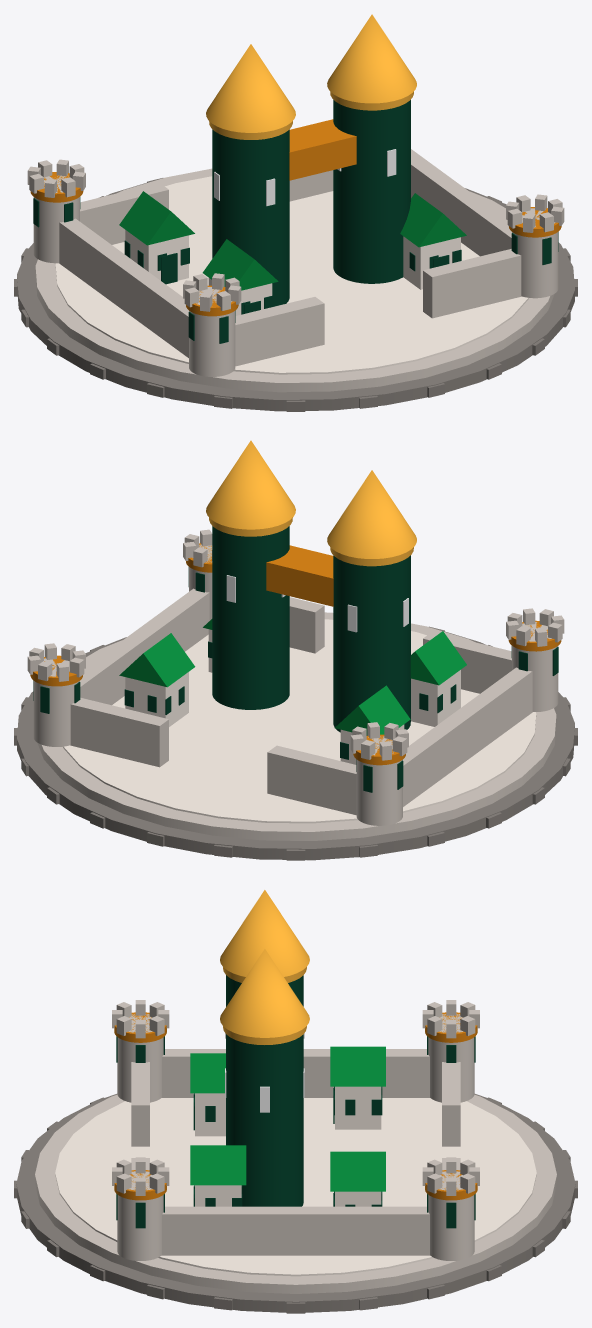
Rendered from city_identity.glb.
3 renders of one model, top to bottom at view 1: azimuth 30°, elevation 25°; view 2: azimuth 150°, elevation 25°; view 3: azimuth 270°, elevation 25°, orthographic.
Visible parts, largest first — view 1: city-floor_grey, identity-gate-tower_white, curtain-wall_white, lower-plinth_stone, upper-plinth_white, corner-tower_white, gate-wall_white, identity-gate-tower_green, courtyard-building_green, courtyard-building_white, gate-lintel_white, plinth-tooth_stone (+5 smaller); view 2: city-floor_grey, identity-gate-tower_white, curtain-wall_white, corner-tower_white, lower-plinth_stone, upper-plinth_white, identity-gate-tower_green, courtyard-building_green, gate-wall_white, courtyard-building_white, gate-lintel_white, plinth-tooth_stone (+5 smaller); view 3: city-floor_grey, curtain-wall_white, corner-tower_white, upper-plinth_white, lower-plinth_stone, identity-gate-tower_white, identity-gate-tower_green, courtyard-building_green, courtyard-building_white, plinth-tooth_stone, corner-tower_stone, gate-wall_white (+3 smaller).
Boxes of the visible parts, left/top/right/bottom form: city-floor_grey: left=55, top=176, right=528, bottom=374; identity-gate-tower_white: left=212, top=100, right=410, bottom=306; curtain-wall_white: left=59, top=149, right=511, bottom=357; lower-plinth_stone: left=17, top=179, right=574, bottom=411; upper-plinth_white: left=35, top=168, right=554, bottom=392; corner-tower_white: left=27, top=159, right=564, bottom=376; gate-wall_white: left=235, top=249, right=521, bottom=366; identity-gate-tower_green: left=206, top=14, right=416, bottom=132; courtyard-building_green: left=119, top=191, right=466, bottom=290; courtyard-building_white: left=125, top=230, right=460, bottom=315; gate-lintel_white: left=289, top=119, right=356, bottom=180; plinth-tooth_stone: left=14, top=178, right=577, bottom=411; city-floor_grey: left=63, top=619, right=536, bottom=823; identity-gate-tower_white: left=212, top=526, right=410, bottom=732; curtain-wall_white: left=70, top=588, right=532, bottom=815; corner-tower_white: left=27, top=529, right=564, bottom=825; lower-plinth_stone: left=17, top=628, right=574, bottom=860; upper-plinth_white: left=37, top=612, right=556, bottom=840; identity-gate-tower_green: left=206, top=440, right=416, bottom=558; courtyard-building_green: left=119, top=619, right=466, bottom=735; gate-wall_white: left=289, top=597, right=511, bottom=693; courtyard-building_white: left=125, top=629, right=460, bottom=764; gate-lintel_white: left=266, top=545, right=333, bottom=606; plinth-tooth_stone: left=14, top=626, right=577, bottom=860; city-floor_grey: left=55, top=1098, right=536, bottom=1276; curtain-wall_white: left=162, top=1049, right=460, bottom=1255; corner-tower_white: left=112, top=1000, right=479, bottom=1260; upper-plinth_white: left=35, top=1094, right=556, bottom=1293; lower-plinth_stone: left=16, top=1094, right=575, bottom=1312; identity-gate-tower_white: left=226, top=975, right=303, bottom=1206; identity-gate-tower_green: left=220, top=890, right=309, bottom=1037; courtyard-building_green: left=190, top=1046, right=385, bottom=1191; courtyard-building_white: left=195, top=1086, right=381, bottom=1206; plinth-tooth_stone: left=14, top=1097, right=577, bottom=1313; corner-tower_stone: left=114, top=1012, right=477, bottom=1200; gate-wall_white: left=131, top=1062, right=149, bottom=1170.
Bounding box in the file's own units: 23.59 × 12.74 × 23.59.
